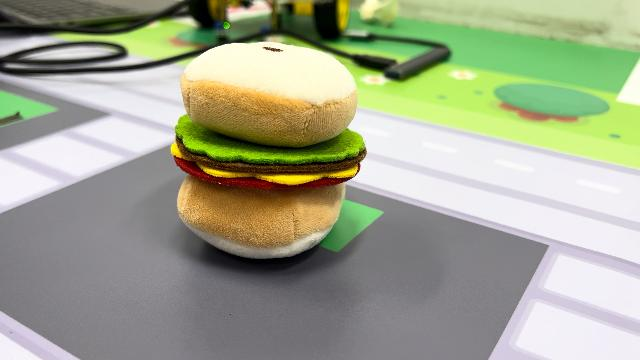sandwich: (170, 39, 368, 261)
